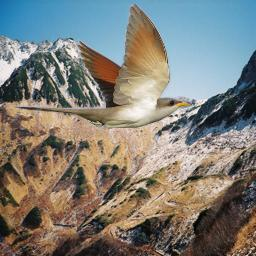Cuckoo: (14, 4, 192, 128)
